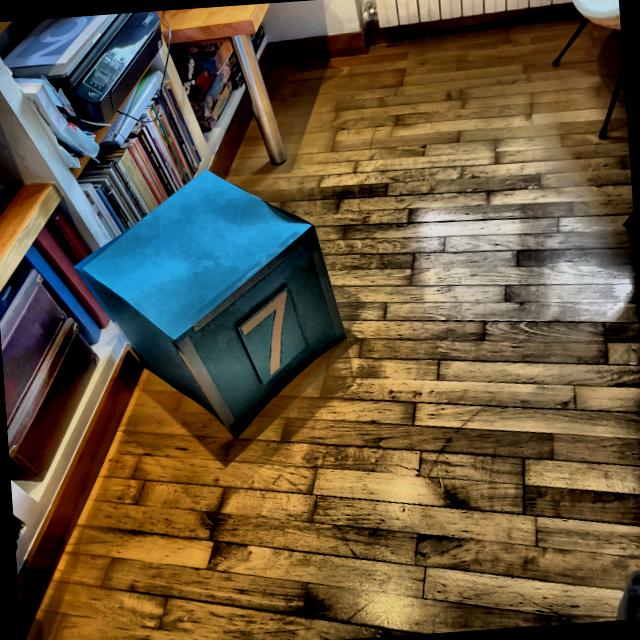blue box: (68, 160, 352, 452)
seven: (238, 286, 296, 379)
